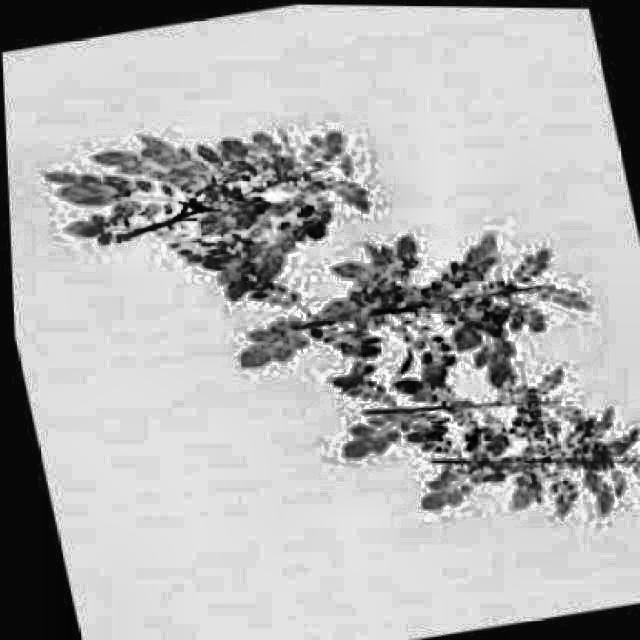plants: (25, 87, 398, 356), (200, 195, 618, 420), (382, 400, 638, 557), (324, 340, 627, 469)
